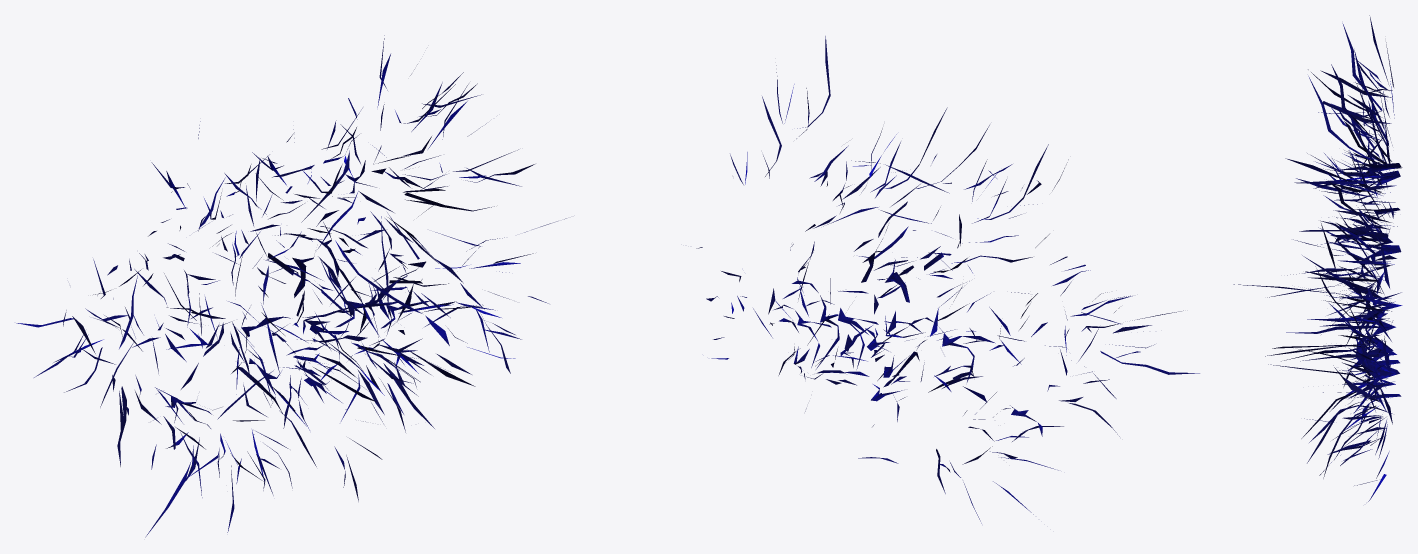
File: TundraGrass_LOD2_Var5.gltf
3 renders of one model, left to right at view 1: azimuth 30°, elevation 25°; view 2: azimuth 150°, elevation 25°; view 3: azimuth 270°, elevation 25°, orthographic. The views are drawn at different scales.
Parts seen in each view (by area): view 1: lods_0; view 2: lods_0; view 3: lods_0.
Boxes of the visible parts, <box> form: lods_0: <box>16,35,566,537</box>; lods_0: <box>696,36,1199,523</box>; lods_0: <box>1233,15,1402,501</box>.
Size of the model in its own units: 1.86 by 1.45 by 0.4647.
Materials: 1 (1 with a texture image).
